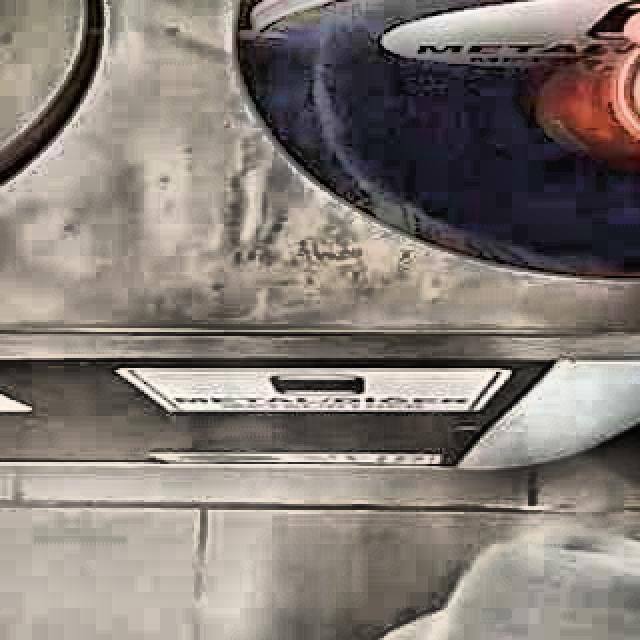metal: (539, 44, 640, 157)
